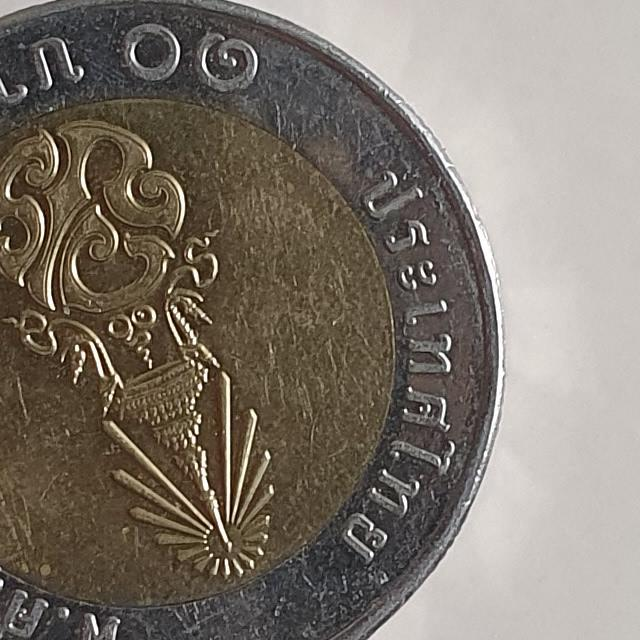10 Bath: (1, 1, 517, 640)
